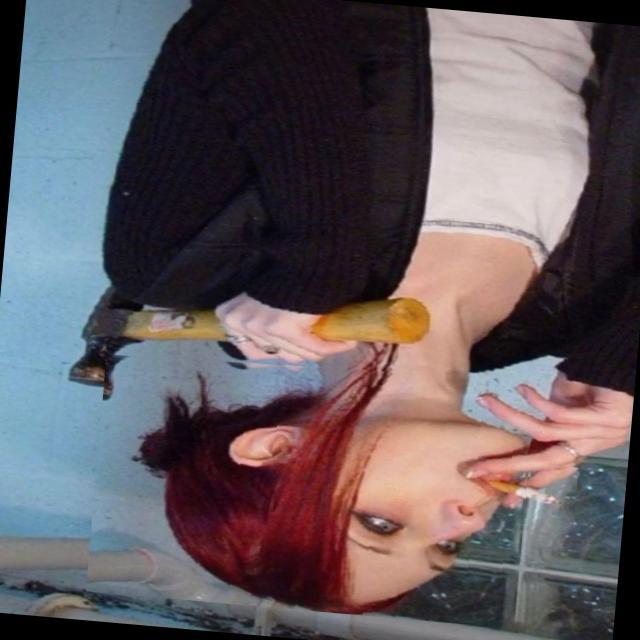cigarette: (464, 458, 578, 530)
